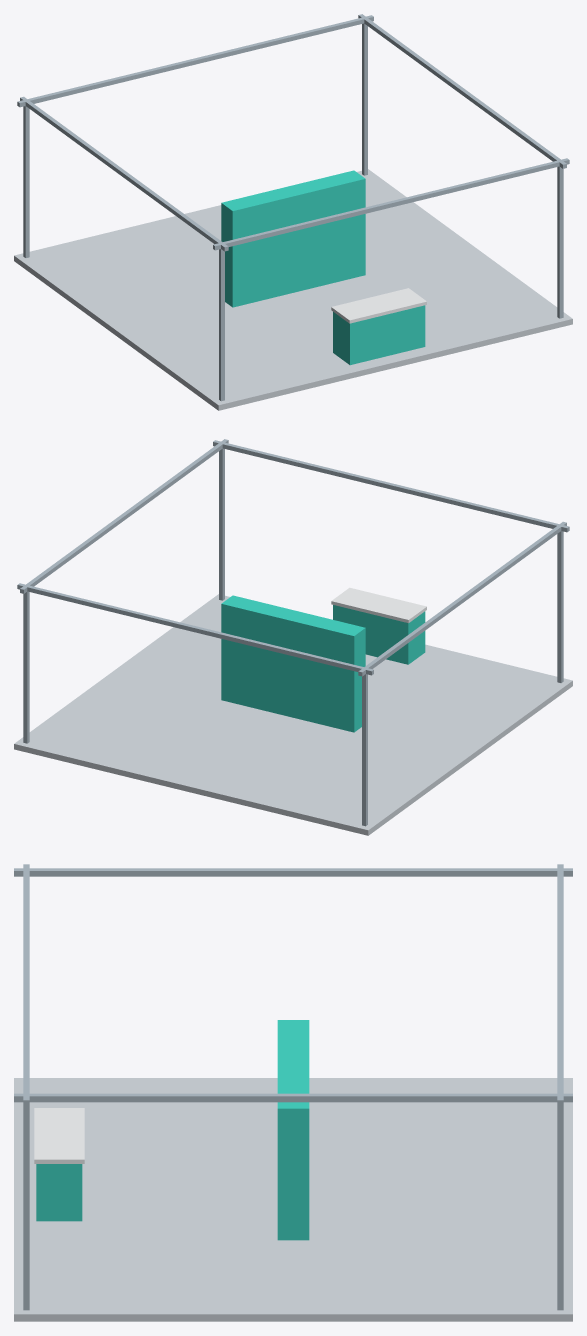
3 views of the same model, one above another, from view 1: azimuth 30°, elevation 25°; view 2: azimuth 150°, elevation 25°; view 3: azimuth 270°, elevation 25° (orthographic). The views are drawn at different scales.
Visible parts, largest first — view 1: Exhibition Booth Concept; view 2: Exhibition Booth Concept; view 3: Exhibition Booth Concept.
Part boxes in pixels (bbox=[...]): Exhibition Booth Concept: bbox=[14, 14, 572, 410]; Exhibition Booth Concept: bbox=[14, 439, 572, 835]; Exhibition Booth Concept: bbox=[14, 864, 572, 1321].
Bounding box in the file's own units: 8 × 3.49 × 8.
